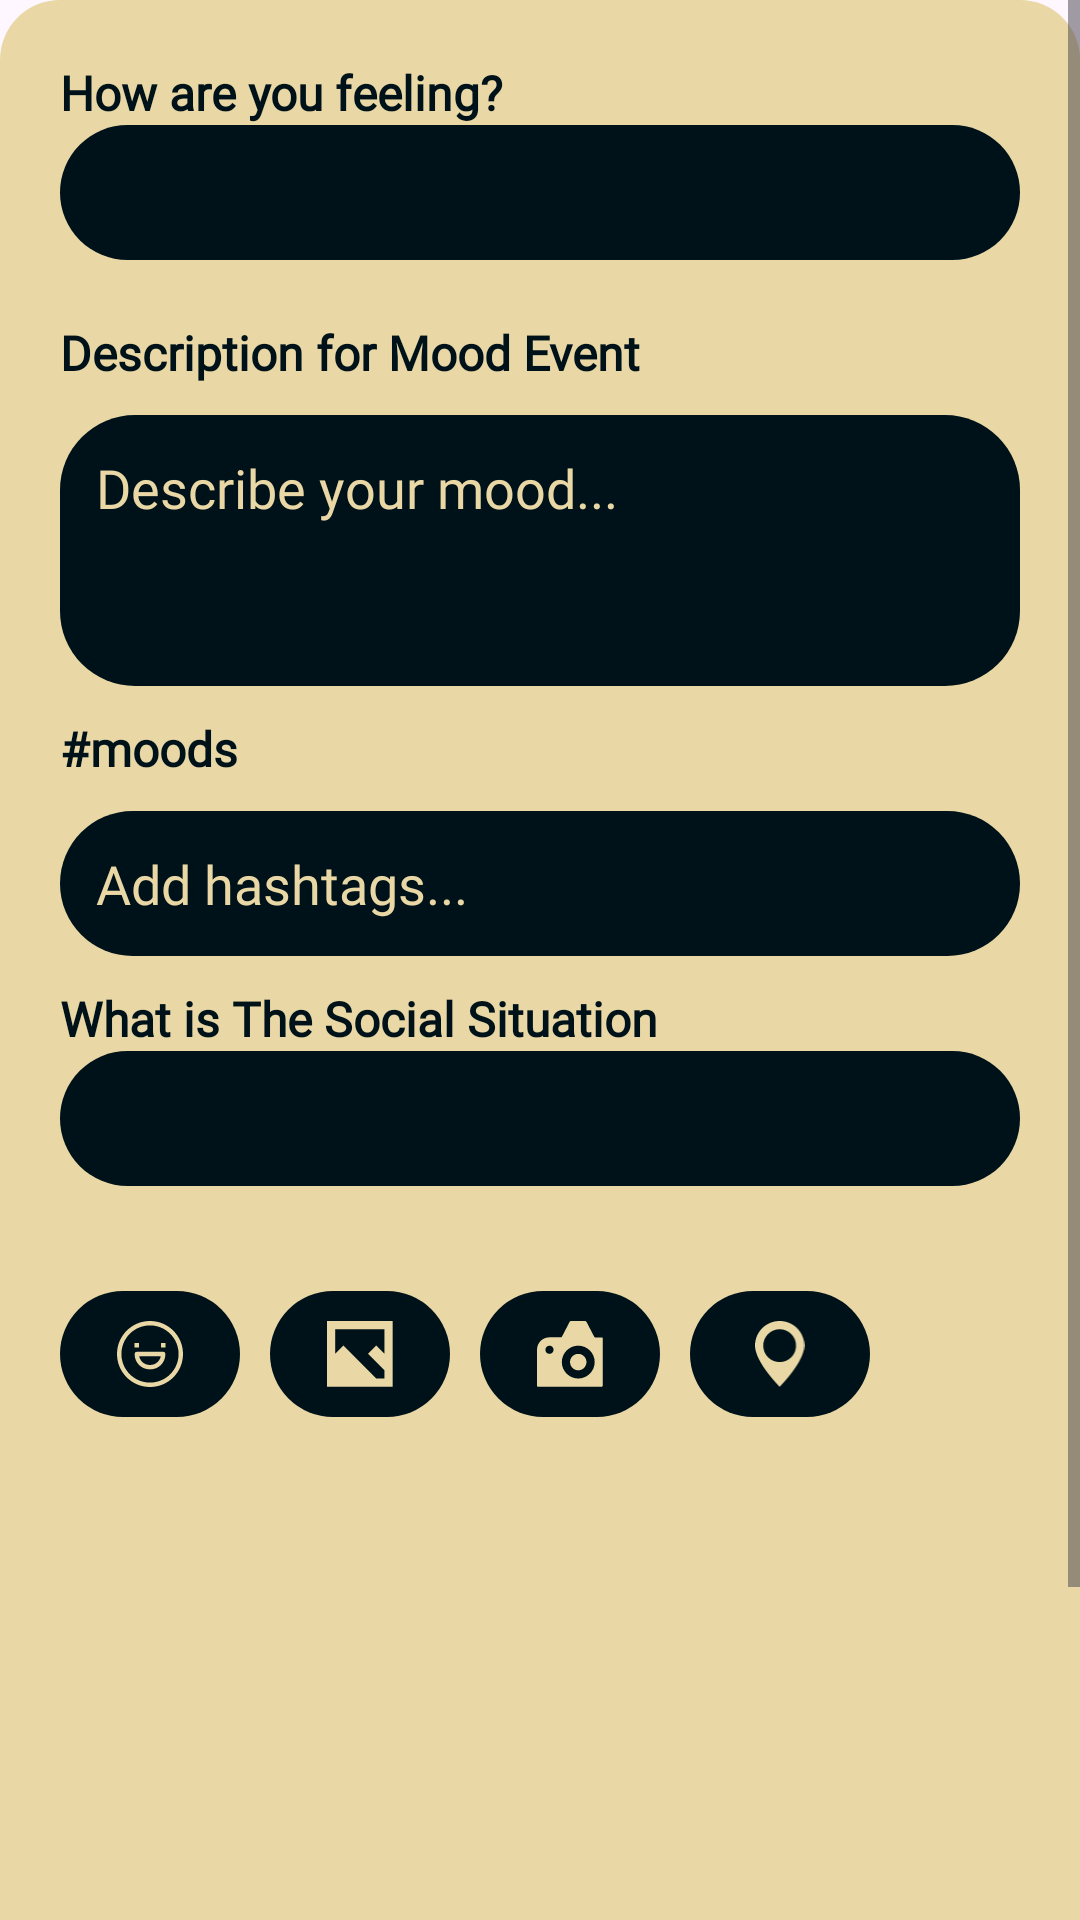

Named icons in this screenshot (1080px x 1920px) and their centers, (x,y):
map marker: (780,1354)
mood: (150,1354)
take: (570,1354)
